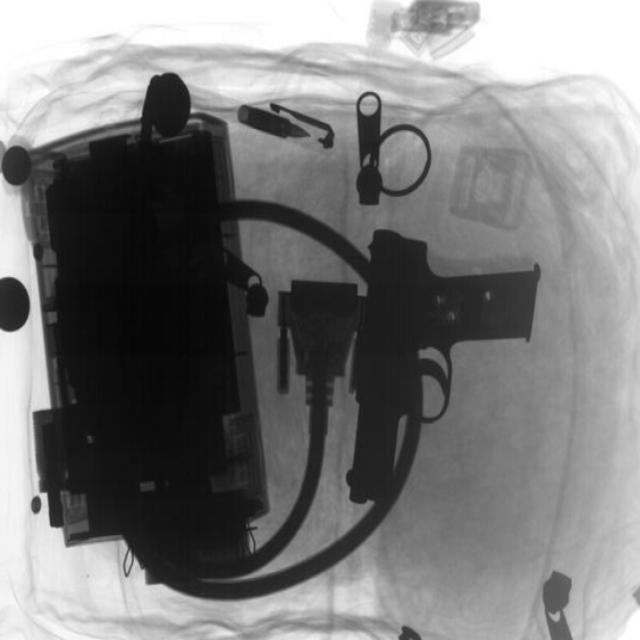GUN: (338, 240, 543, 520)
